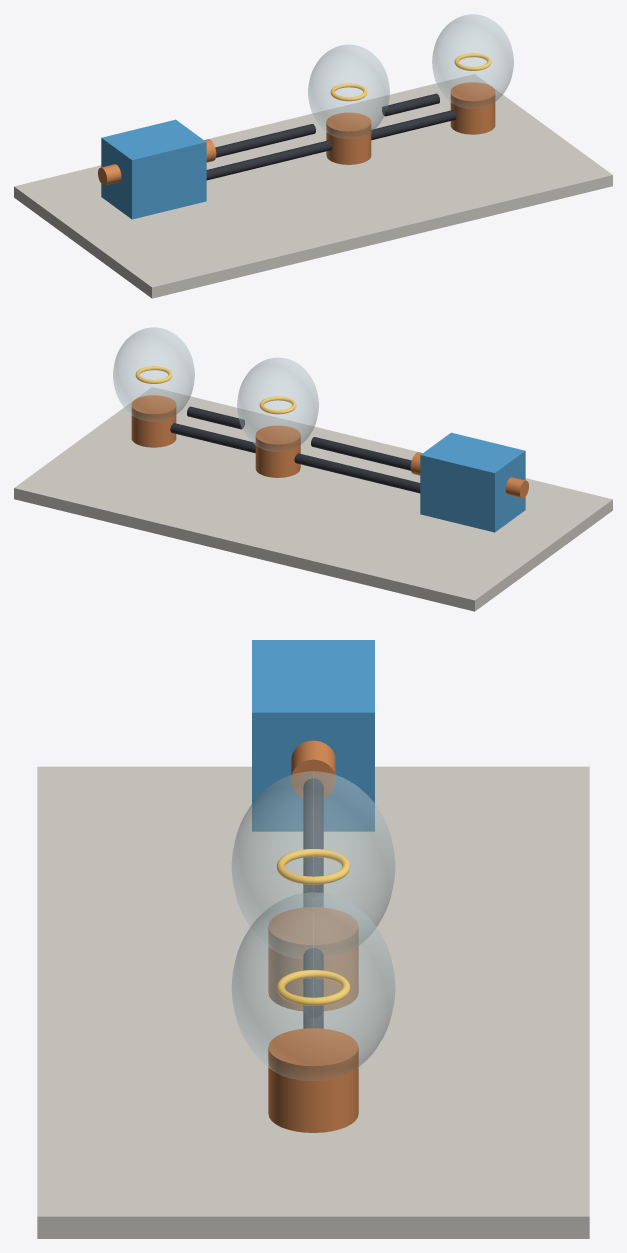
File: physics-electricity-series-circuit.glb
3 views of the same model, one above another, from view 1: azimuth 30°, elevation 25°; view 2: azimuth 150°, elevation 25°; view 3: azimuth 270°, elevation 25° (orthographic). The views are drawn at different scales.
Visible parts, largest first — view 1: circuit-base, glass-bulb (×2), battery-case, bulb-base (×2), single-path-return, single-path-wire-a, single-path-wire-b, negative-terminal; view 2: circuit-base, glass-bulb (×2), battery-case, bulb-base (×2), single-path-return, single-path-wire-a, single-path-wire-b, negative-terminal; view 3: circuit-base, glass-bulb (×2), battery-case, bulb-base (×2), glowing-filament (×2), single-path-wire-a, positive-terminal, single-path-wire-b.
Boxes of the visible parts, box(x1,y1,x2,y2) form: circuit-base: box(14, 74, 612, 298); glass-bulb (×2): box(308, 14, 513, 138); battery-case: box(101, 119, 206, 219); bulb-base (×2): box(326, 82, 495, 164); single-path-return: box(206, 110, 456, 180); single-path-wire-a: box(215, 124, 315, 157); single-path-wire-b: box(382, 93, 439, 116); negative-terminal: box(98, 164, 121, 185); circuit-base: box(14, 387, 612, 611); glass-bulb (×2): box(113, 327, 318, 451); battery-case: box(420, 432, 525, 532); bulb-base (×2): box(131, 395, 300, 477); single-path-return: box(170, 423, 420, 493); single-path-wire-a: box(311, 437, 411, 470); single-path-wire-b: box(187, 406, 244, 429); negative-terminal: box(505, 477, 528, 498); circuit-base: box(37, 766, 589, 1238); glass-bulb (×2): box(231, 771, 395, 1080); battery-case: box(252, 640, 374, 831); bulb-base (×2): box(268, 907, 358, 1132); glowing-filament (×2): box(276, 849, 350, 1005); single-path-wire-a: box(303, 778, 323, 896); positive-terminal: box(291, 740, 335, 797); single-path-wire-b: box(303, 948, 323, 1017).
Size of what is drawn, in the model's own units: 2.6 by 0.73 by 1.35.
